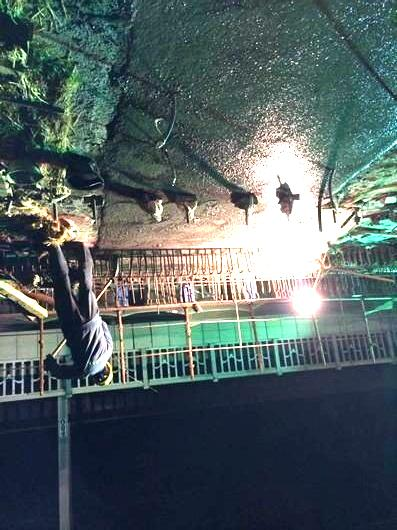helmet: (92, 361, 113, 387)
